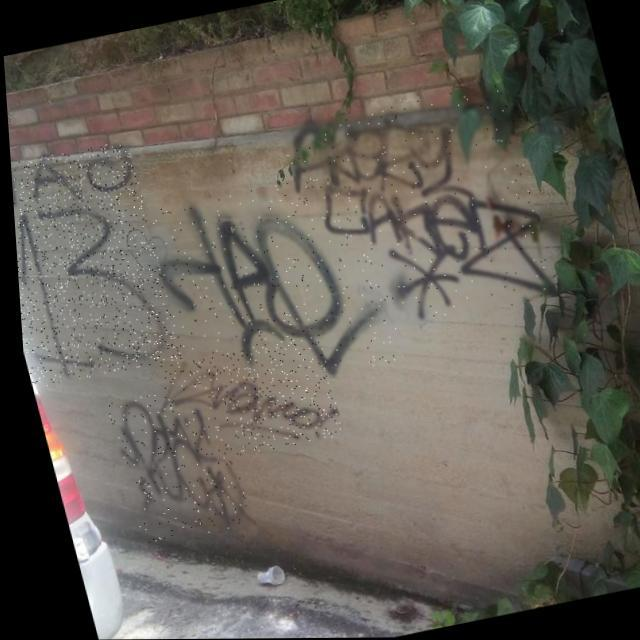-: (276, 82, 556, 342), (141, 170, 396, 402), (8, 139, 180, 388), (150, 334, 340, 468), (100, 380, 248, 547)
